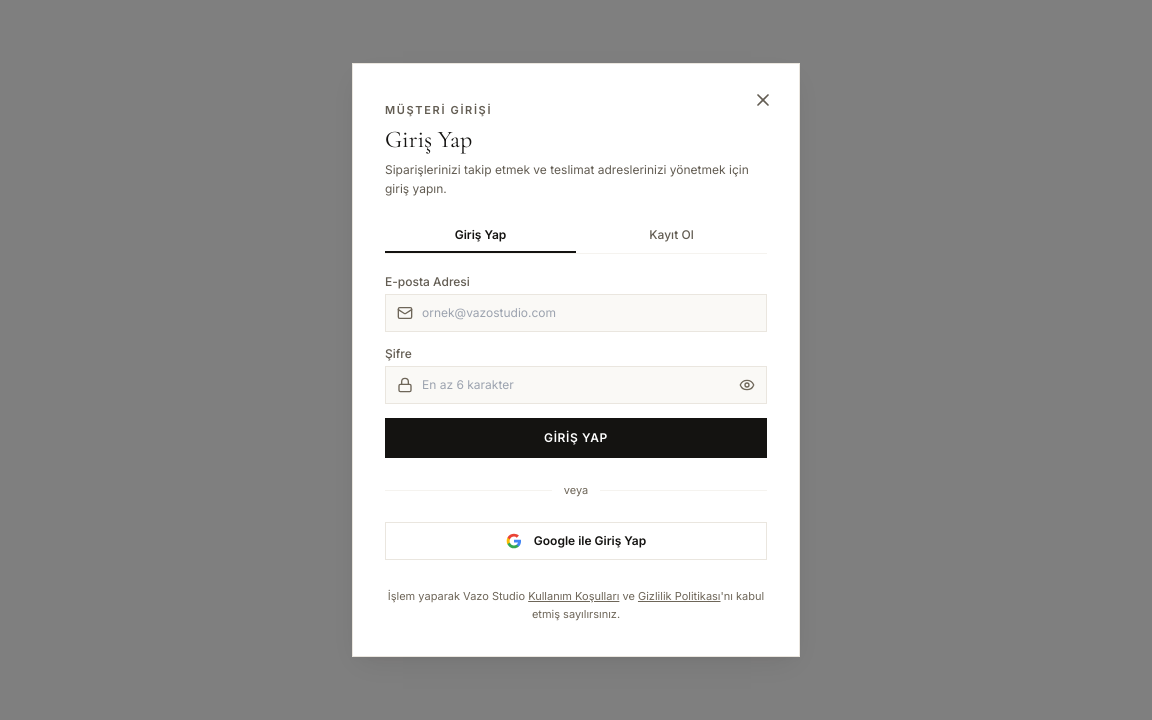
Test: AuthModal Component (Real Google OAuth Customer Sign-In) › renders error message when signInWithGoogle rejects
This screenshot has width=1152, height=720.
Click the button "Google ile Giriş Yap" at (576, 541), box [385,522,767,560]
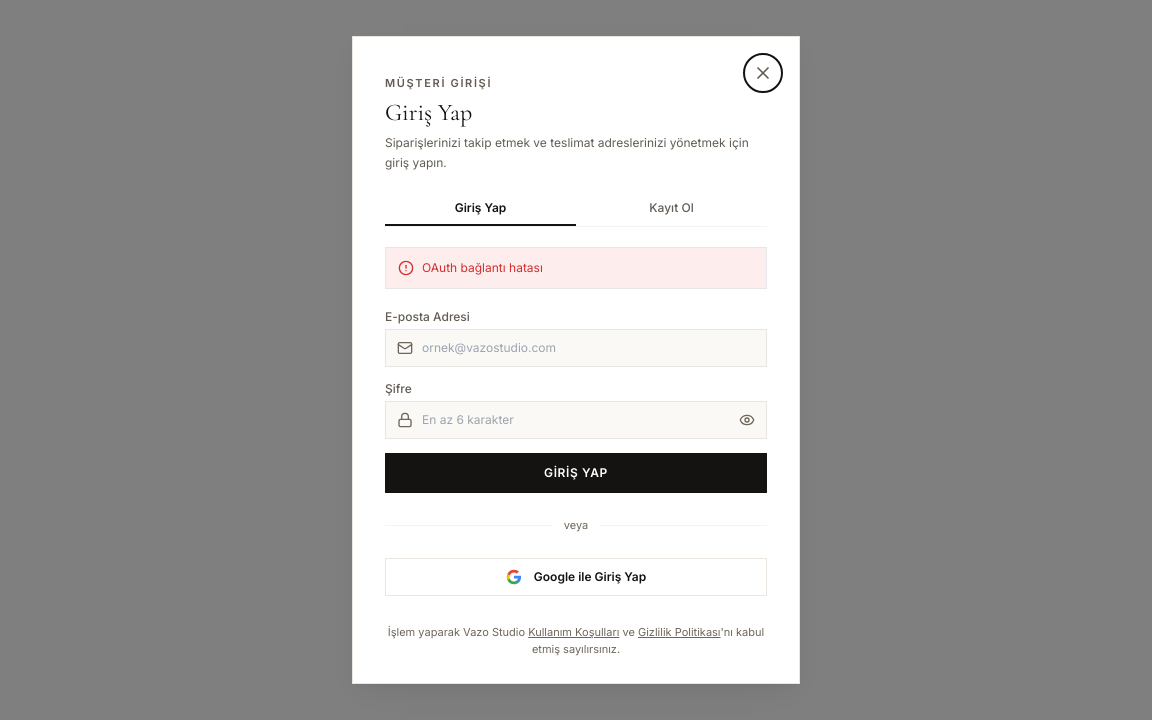
expect the text "OAuth bağlantı hatası" is shown: met, box [422,260,543,276]
